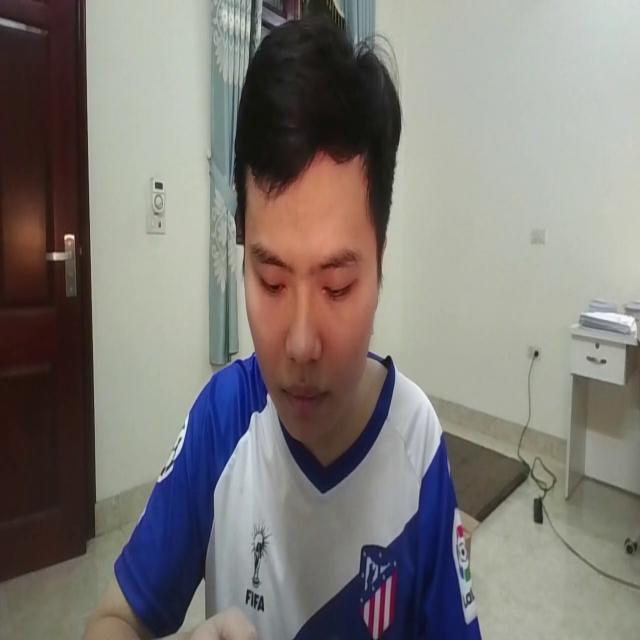student: (105, 9, 488, 640)
